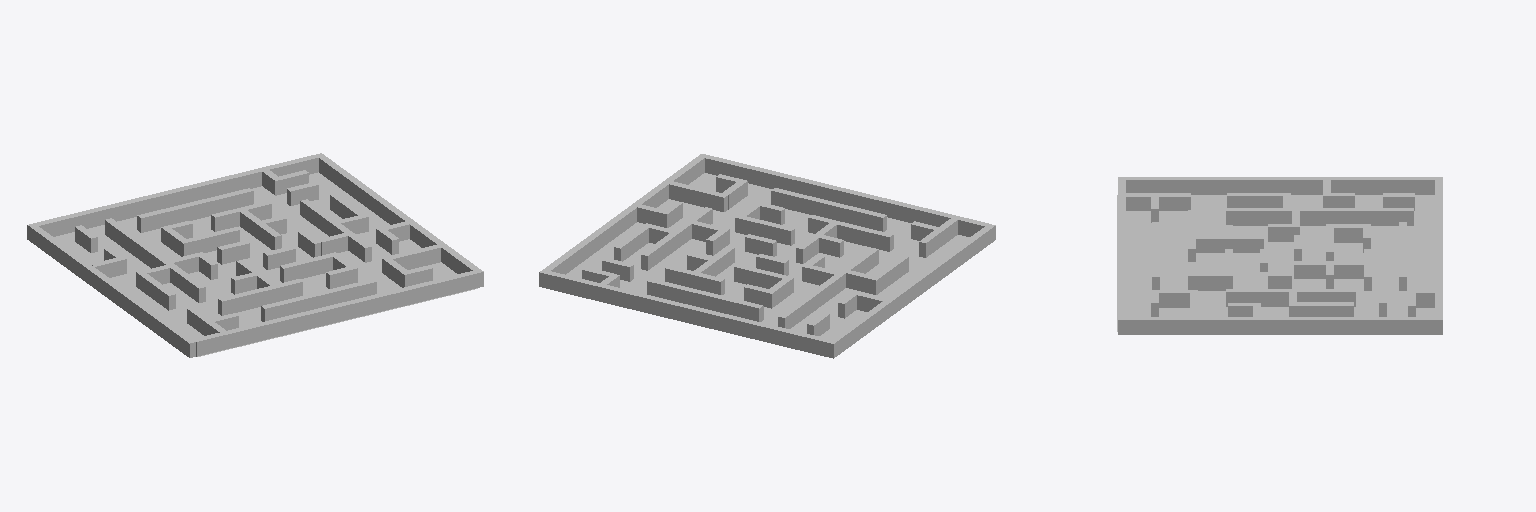
The model's file is Map01_wall.obj.
The picture shows the model from 3 angles: view 1: azimuth 30°, elevation 25°; view 2: azimuth 150°, elevation 25°; view 3: azimuth 270°, elevation 25°; orthographic projection.
Visible parts, largest first — view 1: Plane, Cube.043_Cube.056, Cube.035_Cube.055, Cube.038_Cube.044, Cube.027_Cube.054, Cube.013, Cube.012, Cube.014, Cube.016, Cube.001, Cube.010_Cube.006, Cube.017_Cube.028 (+11 smaller); view 2: Plane, Cube.035_Cube.055, Cube.043_Cube.056, Cube.038_Cube.044, Cube.027_Cube.054, Cube.012, Cube.013, Cube.014, Cube.016, Cube.034_Cube.040, Cube.001, Cube.000_Cube.036 (+9 smaller); view 3: Plane, Cube.027_Cube.054, Cube.038_Cube.044, Cube.016, Cube.014, Cube.043_Cube.056, Cube.035_Cube.055, Cube.040_Cube.046, Cube.036_Cube.042, Cube.015_Cube.018, Cube.022_Cube.023, Cube.008_Cube.000 (+9 smaller).
Part boxes in pixels (x1,y1,x2,y2): Plane: (54, 172, 477, 356); Cube.043_Cube.056: (193, 271, 476, 356); Cube.035_Cube.055: (35, 155, 318, 236); Cube.038_Cube.044: (27, 223, 195, 357); Cube.027_Cube.054: (316, 153, 483, 287); Cube.013: (137, 188, 253, 232); Cube.012: (261, 279, 376, 321); Cube.014: (300, 199, 371, 262); Cube.016: (137, 240, 205, 302); Cube.001: (280, 252, 338, 282); Cube.010_Cube.006: (181, 227, 239, 256); Cube.017_Cube.028: (243, 279, 302, 308); Plane: (566, 173, 969, 338); Cube.035_Cube.055: (546, 271, 830, 356); Cube.043_Cube.056: (705, 155, 988, 236); Cube.038_Cube.044: (827, 224, 995, 358); Cube.027_Cube.054: (539, 154, 707, 287); Cube.012: (771, 188, 886, 231); Cube.013: (647, 278, 763, 321); Cube.014: (641, 207, 712, 270); Cube.016: (811, 248, 878, 308); Cube.034_Cube.040: (669, 181, 727, 211); Cube.001: (735, 215, 794, 245); Cube.000_Cube.036: (665, 265, 724, 294); Plane: (1117, 195, 1434, 331); Cube.027_Cube.054: (1118, 317, 1442, 334); Cube.038_Cube.044: (1118, 177, 1442, 194); Cube.016: (1226, 208, 1355, 225); Cube.014: (1226, 289, 1355, 306); Cube.043_Cube.056: (1118, 180, 1125, 316); Cube.035_Cube.055: (1435, 180, 1442, 316); Cube.040_Cube.046: (1126, 193, 1190, 210); Cube.036_Cube.042: (1350, 208, 1413, 225); Cube.015_Cube.018: (1289, 302, 1353, 316); Cube.022_Cube.023: (1227, 193, 1290, 207); Cube.008_Cube.000: (1294, 261, 1325, 278).
Bounding box in the file's own units: 83.82 × 4.05 × 80.38.